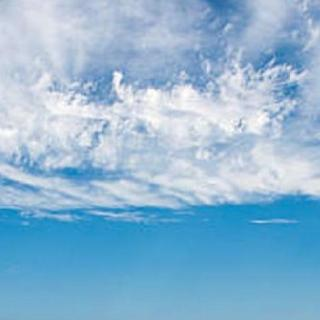Stratus: (0, 1, 320, 230)
